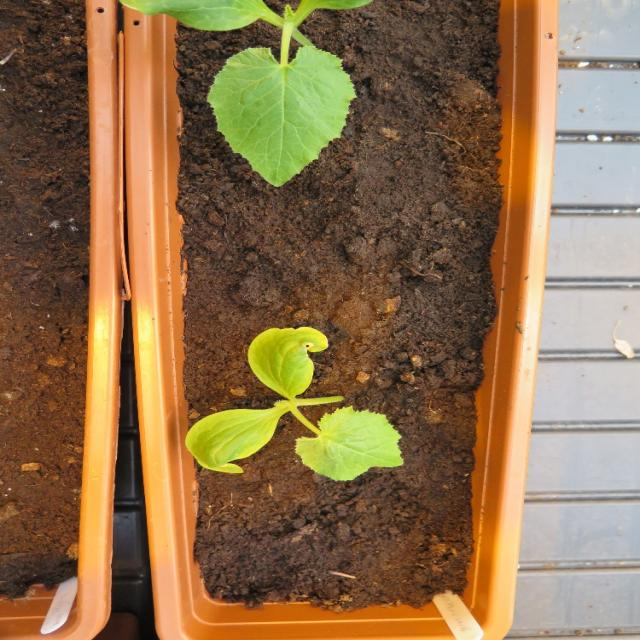crop: (178, 326, 406, 481)
